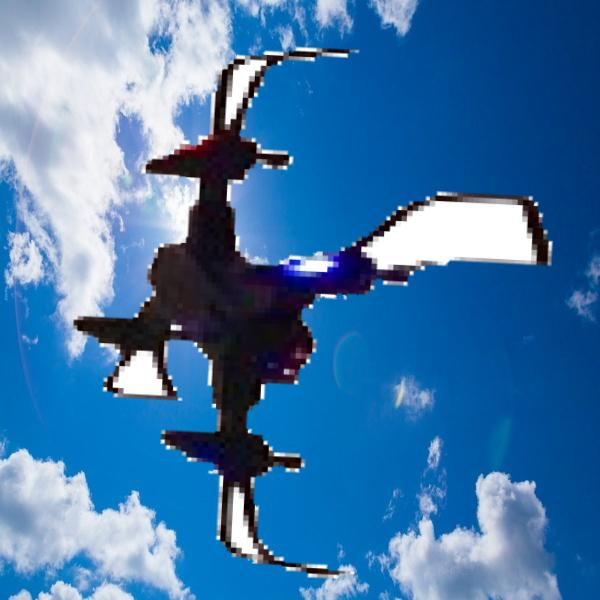drone: (46, 48, 595, 597)
